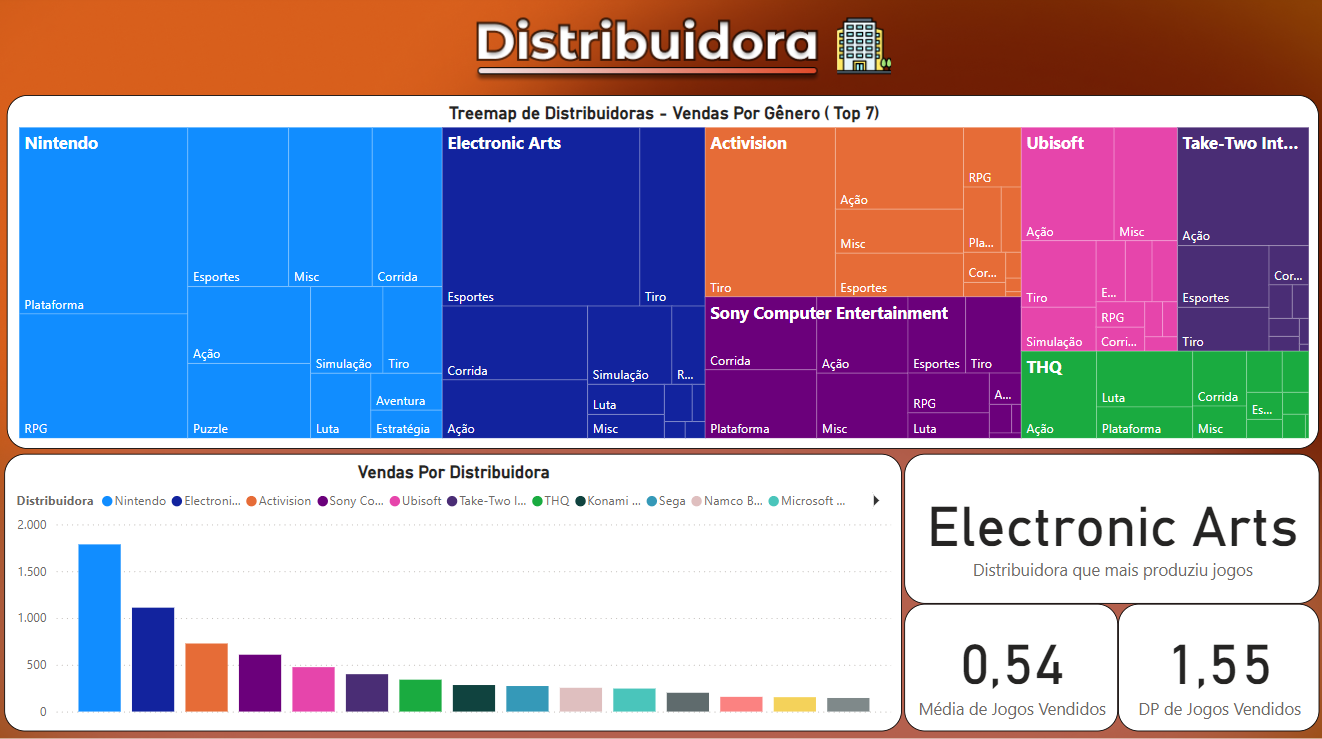

What the dashboard file says about the page in this screenshot:
{"tool":"powerbi","page":{"name":"Influência da Distribuidora","canvas":[1280,720],"ordinal":5},"visuals":[{"type":"barChart","title":"Vendas Por Distribuidora","fields":{"Y":["Sum(games-Final.Vendas_Totais)"],"Category":["games-Final.Distribuidora"],"Series":["games-Final.Distribuidora"]},"box":[19.2,97.4,579.1,336.2],"z":1000},{"type":"areaChart","title":"Média de Vendas por Distribuidora (Top 10)","fields":{"Category":["games-Final.Distribuidora"],"Y":["Avg(games-Final.Vendas_Totais)"],"Y2":["Avg(games-Final.Vendas_EUA)","Avg(games-Final.Vendas_JP)"]},"box":[612,97.4,651.8,336.2],"z":2000},{"type":"lineStackedColumnComboChart","title":"Quantidade de Jogos Lançados Por Distribuidora","fields":{"Category":["games-Final.Distribuidora"],"Y":["Count(games-Final.Titulo)"],"Series":["games-Final.Distribuidora"]},"box":[19.2,454.2,1244.6,247],"z":3000}]}

Visuals, with their boxes in screenshot pixels (x1, y1, x2, y2), scaled from the page's 1280x720 canvas onto the 1322x739 screenshot:
"Vendas Por Distribuidora" barChart: [20,100,618,445]
"Média de Vendas por Distribuidora (Top 10)" areaChart: [632,100,1305,445]
"Quantidade de Jogos Lançados Por Distribuidora" lineStackedColumnComboChart: [20,466,1305,720]
